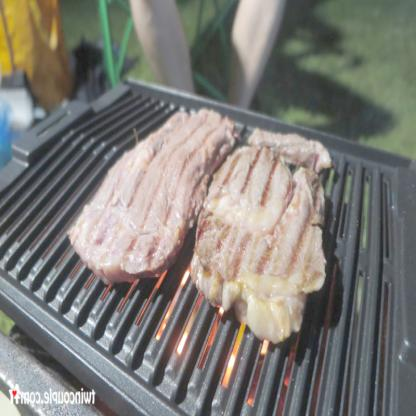Carne: (195, 129, 332, 333)
